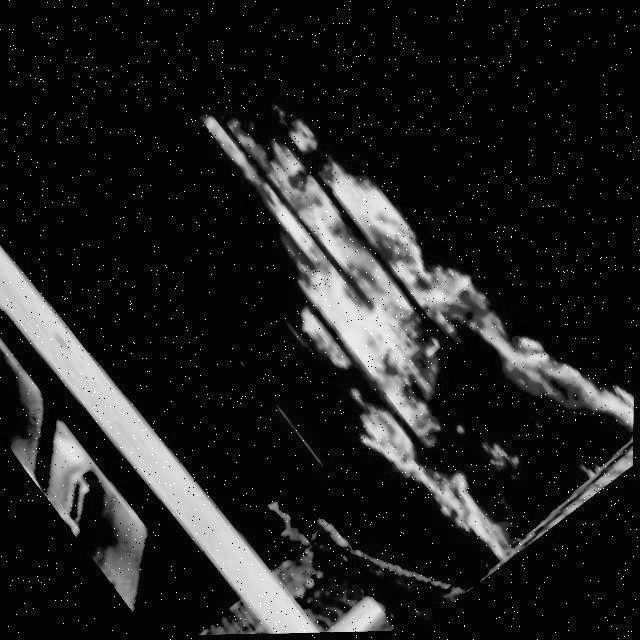Fire: (109, 0, 640, 606)
